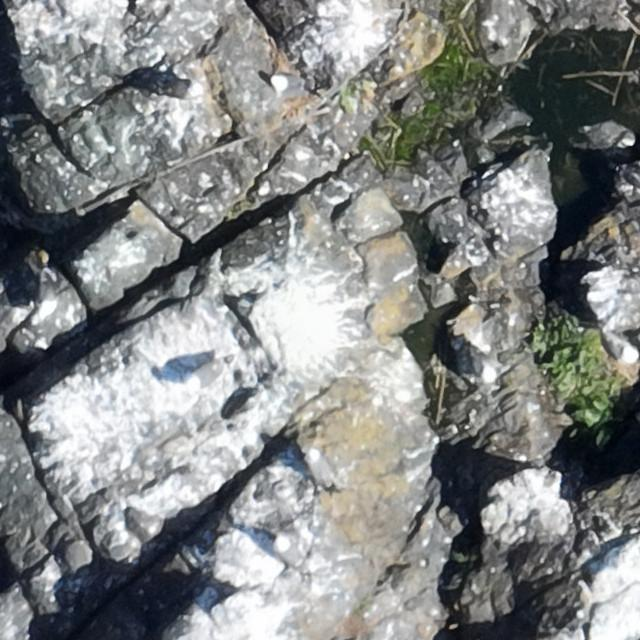umineko: (148, 69, 204, 101), (186, 356, 232, 394), (272, 532, 306, 572), (309, 451, 330, 484), (273, 77, 308, 96)
